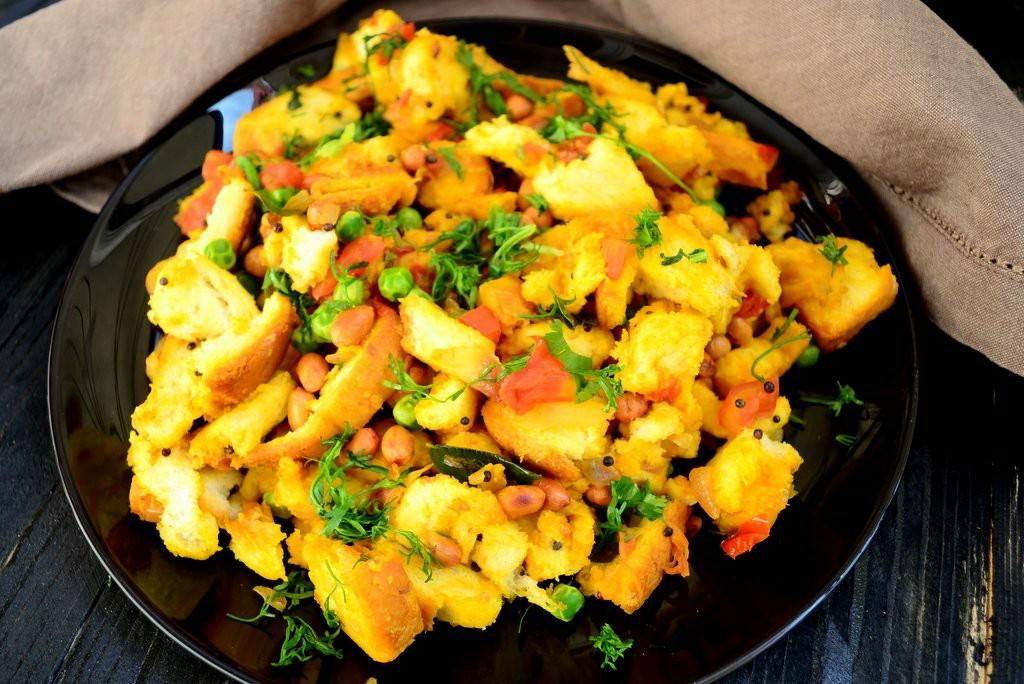Poha: (126, 9, 900, 655)
